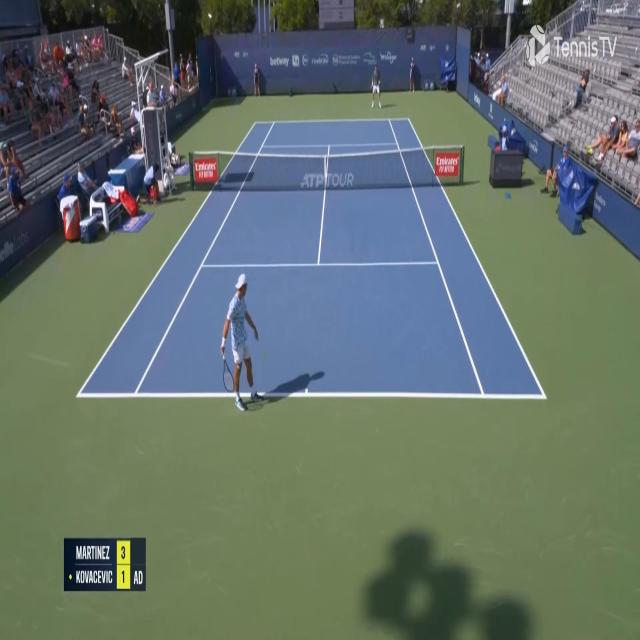tennis-player: (220, 271, 266, 414), (370, 62, 383, 109)
